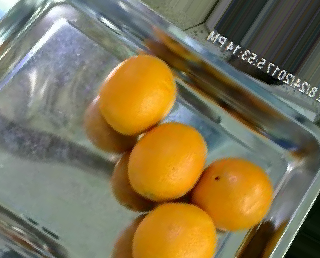Orange: (128, 121, 208, 202), (99, 54, 177, 135), (192, 157, 274, 231), (131, 201, 217, 258)
